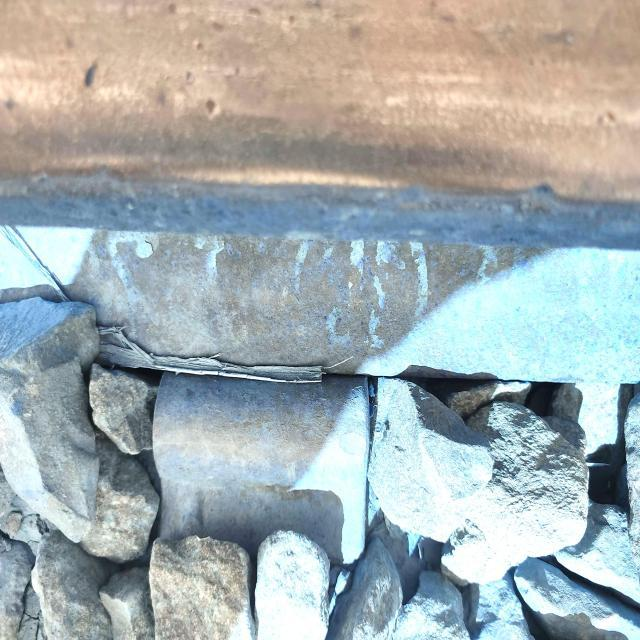Missing Fastener: (111, 371, 442, 598)
